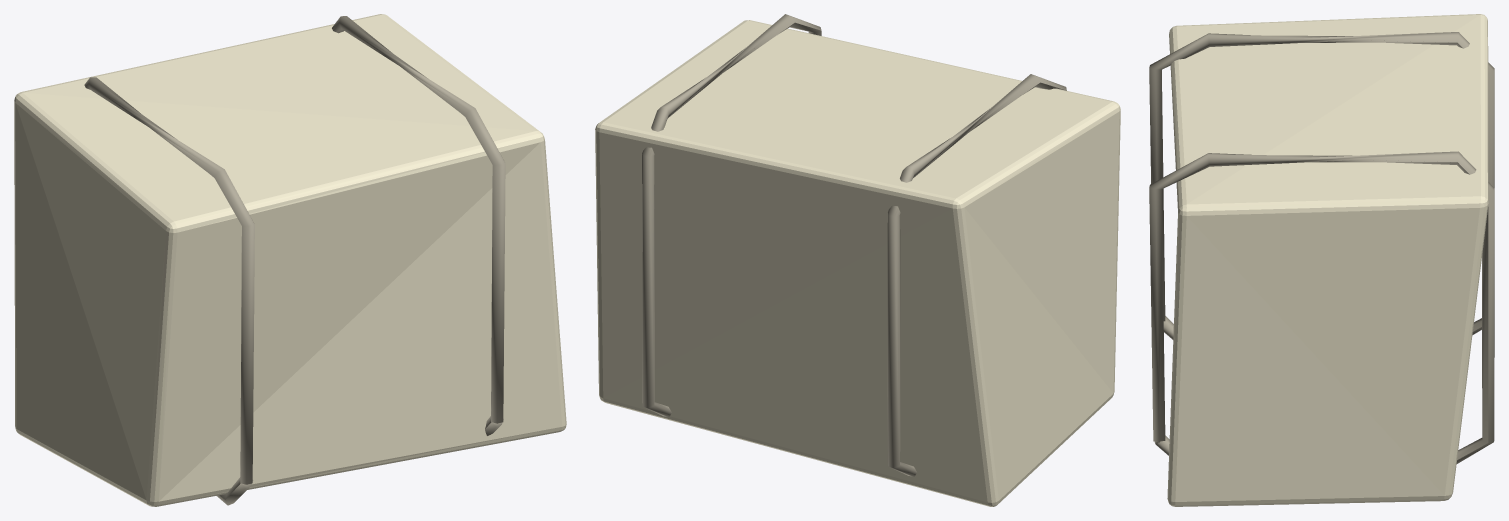
Rendered from SM_WLA_Haybale_B.fbx.
3 renders of one model, left to right at view 1: azimuth 30°, elevation 25°; view 2: azimuth 150°, elevation 25°; view 3: azimuth 270°, elevation 25°, orthographic. The views are drawn at different scales.
Visible parts, largest first — view 1: SM_WLA_Haybale_B; view 2: SM_WLA_Haybale_B; view 3: SM_WLA_Haybale_B.
Boxes of the visible parts, box(x1,y1,x2,y2) form: SM_WLA_Haybale_B: box(14, 14, 566, 506); SM_WLA_Haybale_B: box(595, 14, 1120, 506); SM_WLA_Haybale_B: box(1149, 14, 1494, 506).
Size of what is drawn, in the model's own units: 0.9033 by 1.22 by 0.9418.
